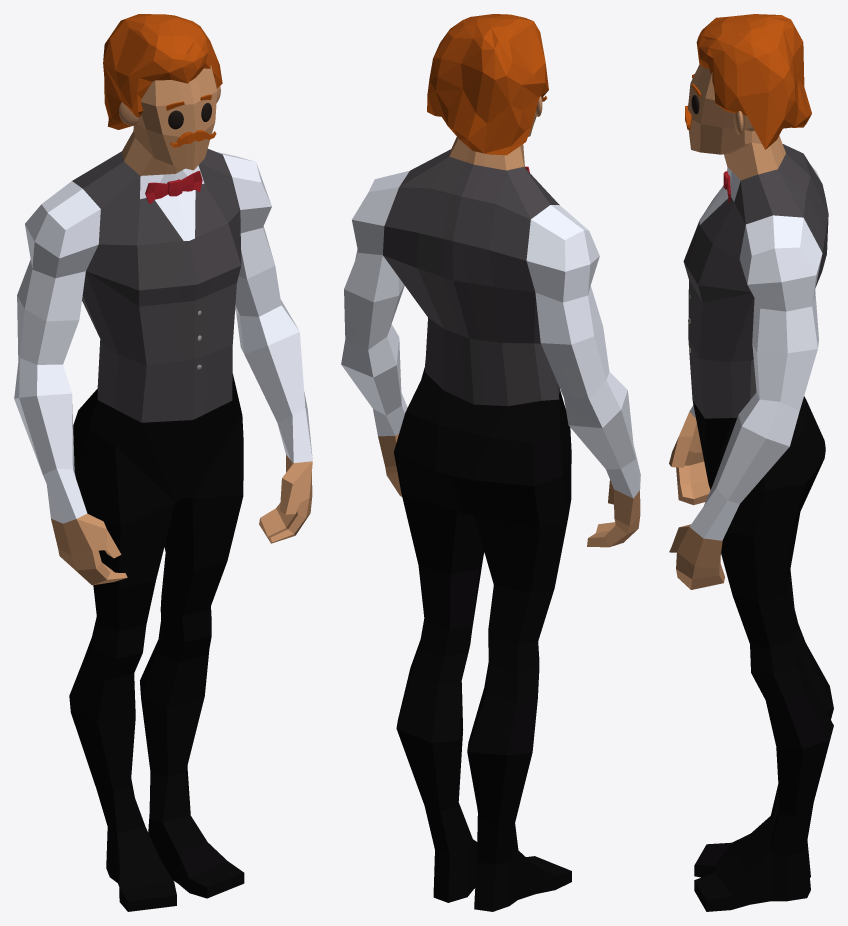
File: camarero.fbx
The picture shows the model from 3 angles, left to right: view 1: azimuth 30°, elevation 25°; view 2: azimuth 150°, elevation 25°; view 3: azimuth 270°, elevation 25°; orthographic projection.
Visible parts, largest first — view 1: Cube.002, Sphere.002, Bowtie_01_Cube.031; view 2: Cube.002, Sphere.002; view 3: Cube.002, Sphere.002.
Part boxes in pixels (x1=…): Cube.002: x1=14, y1=65, x2=312, y2=911; Sphere.002: x1=103, y1=14, x2=222, y2=129; Bowtie_01_Cube.031: x1=145, y1=171, x2=202, y2=203; Cube.002: x1=341, y1=97, x2=640, y2=911; Sphere.002: x1=427, y1=14, x2=548, y2=155; Cube.002: x1=669, y1=64, x2=833, y2=911; Sphere.002: x1=696, y1=14, x2=811, y2=149.
Bounding box in the file's own units: 56.9 × 171 × 29.63.
